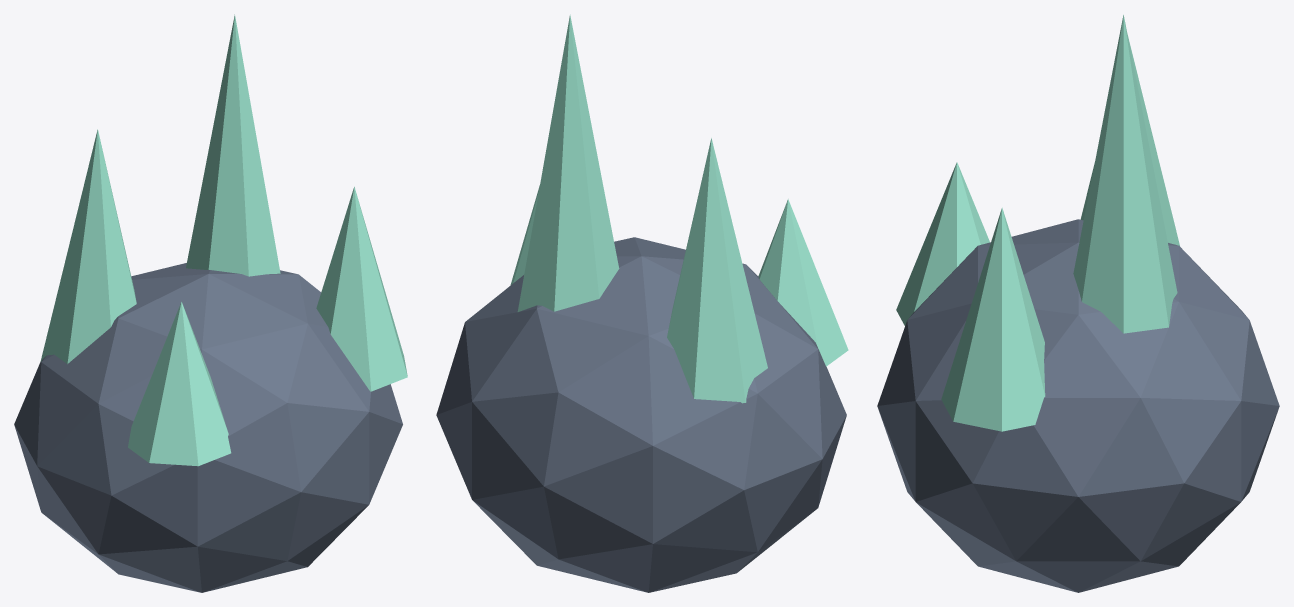
The model's file is ore_Duranium.glb.
3 views of the same model, side by side, from view 1: azimuth 30°, elevation 25°; view 2: azimuth 150°, elevation 25°; view 3: azimuth 270°, elevation 25° (orthographic). The views are drawn at different scales.
Parts seen in each view (by area): view 1: rock, crystal_1, crystal_0, crystal_3, crystal_2; view 2: rock, crystal_1, crystal_0, crystal_3, crystal_2; view 3: rock, crystal_1, crystal_2, crystal_3, crystal_0.
Boxes of the visible parts, x1,y1,x2,y2 form: rock: (14, 263, 402, 592); crystal_1: (186, 14, 280, 276); crystal_0: (40, 129, 136, 363); crystal_3: (128, 301, 231, 466); crystal_2: (316, 186, 407, 391); rock: (436, 237, 846, 592); crystal_1: (517, 14, 619, 311); crystal_0: (667, 138, 767, 403); crystal_3: (758, 199, 848, 366); crystal_2: (510, 185, 539, 285); rock: (877, 219, 1279, 592); crystal_1: (1073, 15, 1177, 333); crystal_2: (941, 207, 1045, 431); crystal_3: (896, 162, 989, 325); crystal_0: (1080, 35, 1179, 245).
Size of the model in its own units: 1.24 by 1.85 by 1.16.
